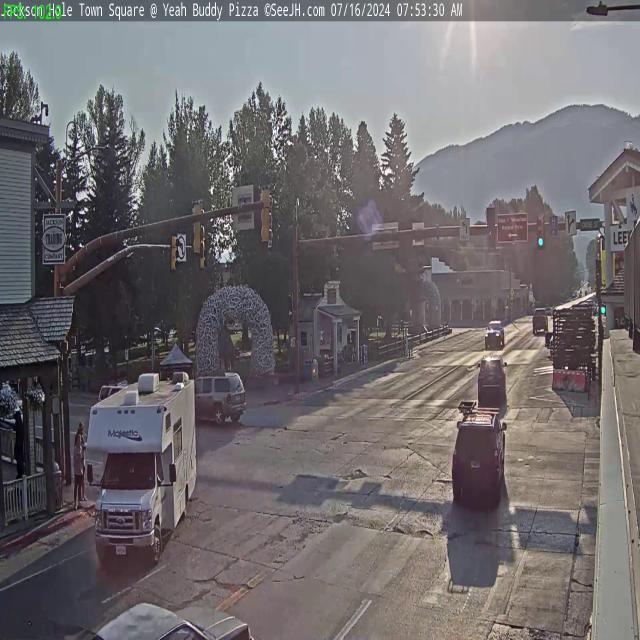person: (73, 421, 86, 502)
suv: (451, 420, 503, 503), (198, 373, 245, 429), (478, 356, 505, 404), (484, 318, 504, 348)
traffic light: (190, 199, 203, 256), (260, 184, 272, 244), (486, 206, 496, 253), (170, 234, 179, 273), (537, 214, 545, 248)
truck: (94, 380, 200, 574)
